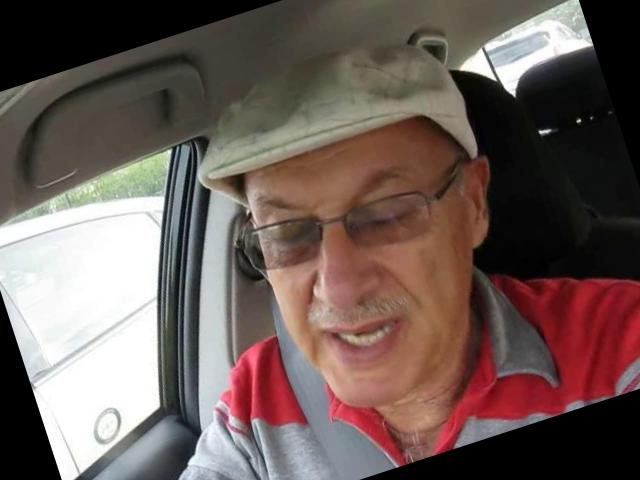eye_closed: (353, 197, 426, 244), (256, 222, 312, 266)
face: (229, 126, 516, 437)
